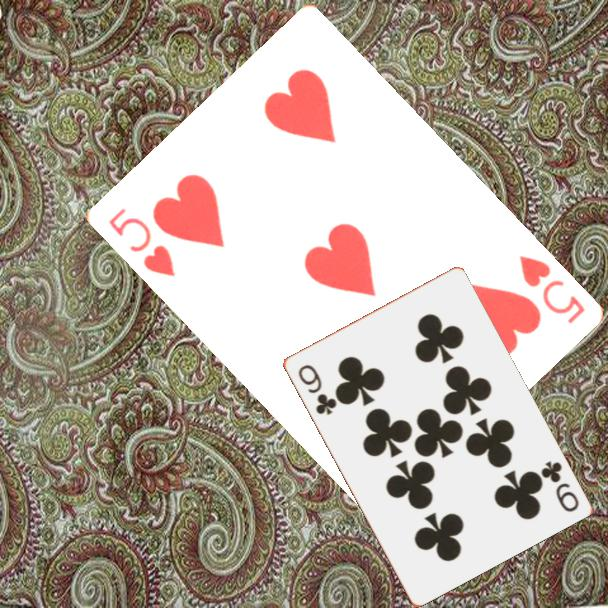c09: (537, 457, 582, 515), (294, 361, 339, 418)
h05: (104, 204, 178, 280), (514, 251, 588, 327)
